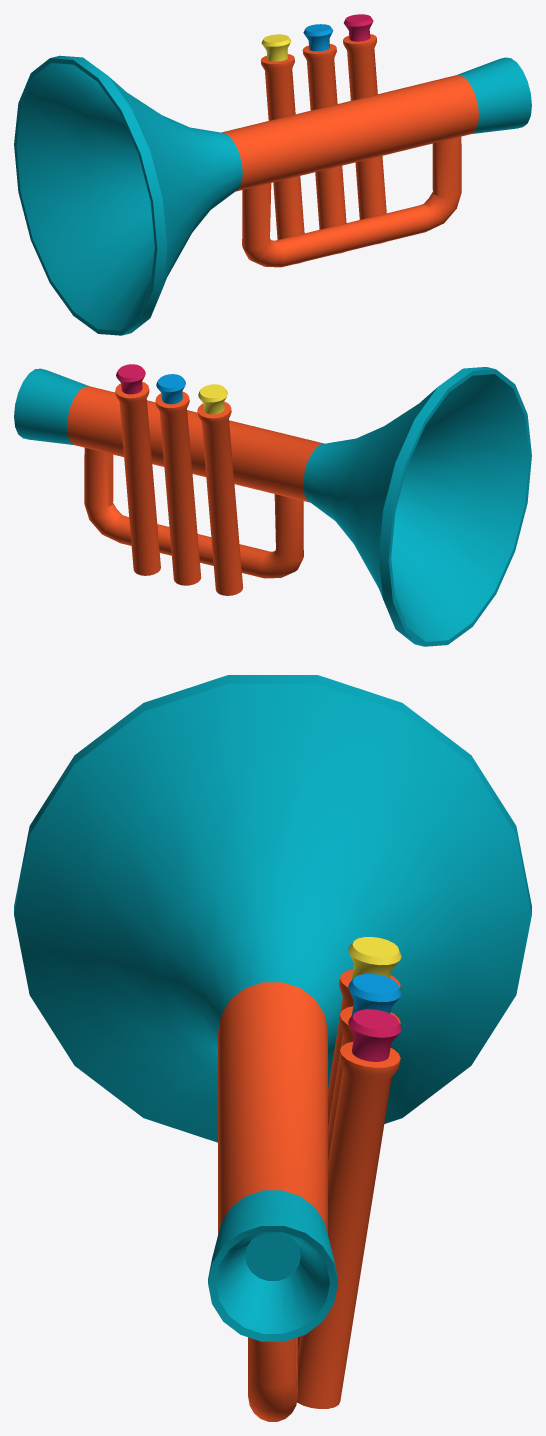
The model's file is Trumpet.fbx.
3 views of the same model, one above another, from view 1: azimuth 30°, elevation 25°; view 2: azimuth 150°, elevation 25°; view 3: azimuth 270°, elevation 25° (orthographic). The views are drawn at different scales.
Parts seen in each view (by area): view 1: Trumpet; view 2: Trumpet; view 3: Trumpet.
Boxes of the visible parts, <box> form: Trumpet: <box>14,14,531,335</box>; Trumpet: <box>14,364,531,646</box>; Trumpet: <box>14,675,531,1421</box>.
Size of the model in its own units: 29.18 by 16.66 by 16.92.
Materials: 1 (1 with a texture image).
